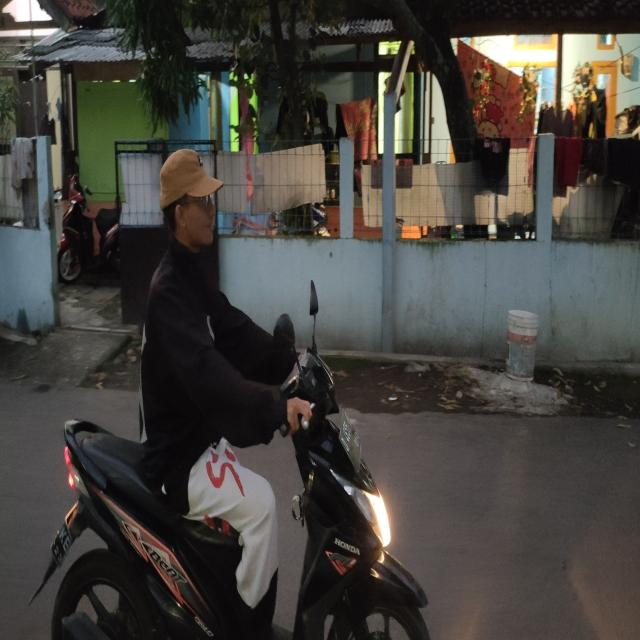no-helmet: (157, 139, 220, 251)
